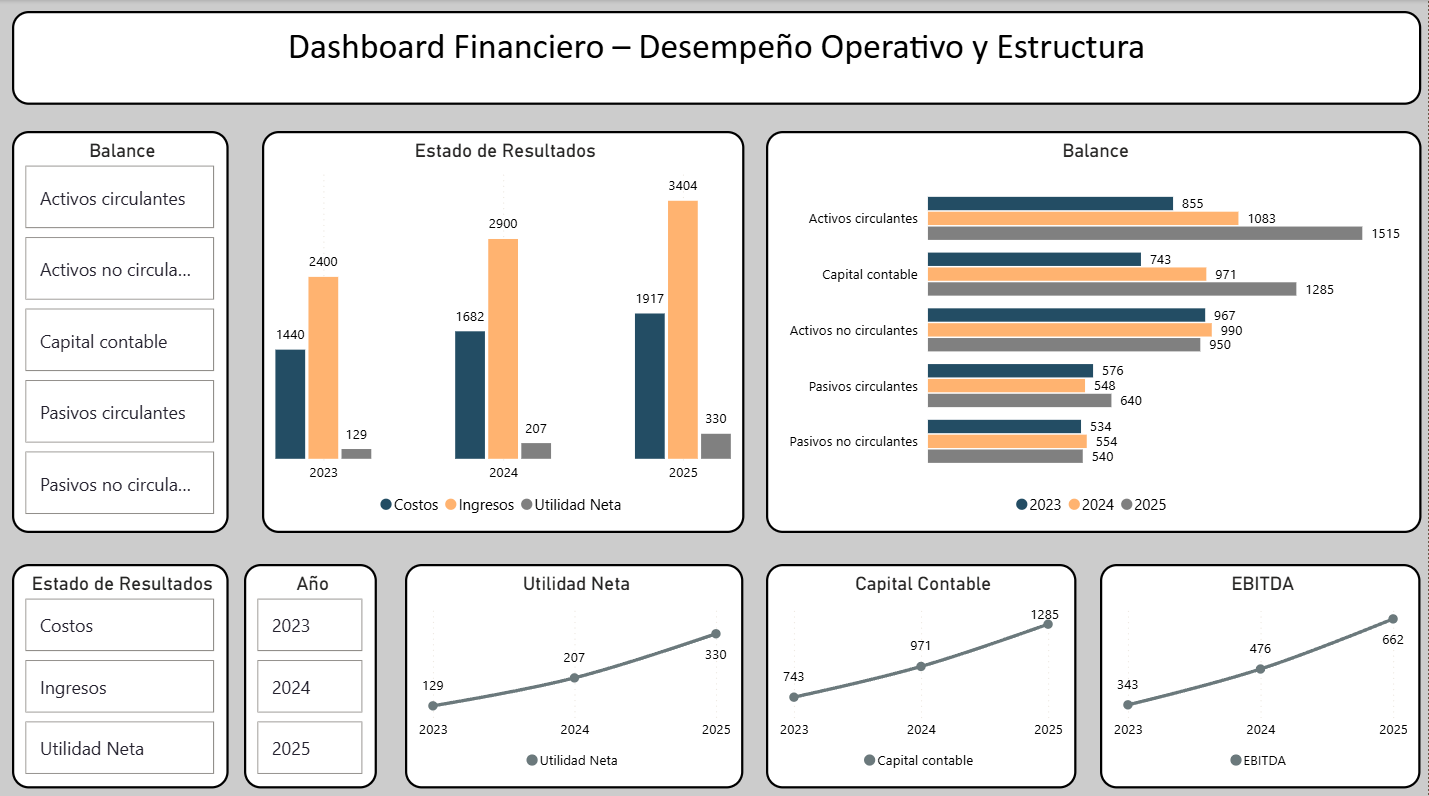

What the dashboard file says about the page in this screenshot:
{"tool":"powerbi","page":{"name":"dashboard estados","canvas":[1280,720],"ordinal":0},"visuals":[{"type":"clusteredColumnChart","title":"Estado de Resultados","fields":{"Category":["Estadoderesultado.Año"],"Y":["Sum(Estadoderesultado.Monto)"],"Series":["Estadoderesultado.Tipo"]},"box":[235.4,117.7,431.9,359.9],"z":0},{"type":"lineChart","title":"Utilidad Neta","fields":{"Category":["Estadoderesultado.Año"],"Y":["Sum(Estadoderesultado.Monto)"],"Series":["Estadoderesultado.Tipo"]},"box":[363.8,504.8,303.5,201.3],"z":1000},{"type":"textbox","box":[11.6,9.9,1261.8,84.2],"z":2000},{"type":"lineChart","title":"EBITDA","fields":{"Category":["EBITDA.Año"],"Y":["Sum(EBITDA.Monto)"],"Series":["EBITDA.Tipo"]},"box":[986,505.1,287.5,201.5],"z":3000},{"type":"lineChart","title":"Capital Contable","fields":{"Category":["Balance.Año"],"Y":["Sum(Balance.Monto)"],"Series":["Balance.Tipo"]},"box":[686.9,505.1,277.6,201.5],"z":4000},{"type":"clusteredBarChart","title":"Balance","fields":{"Y":["Sum(Balance.Monto)"],"Category":["Balance.Tipo"],"Series":["Balance.Año"]},"box":[686.7,117.7,586.5,359.9],"z":5000},{"type":"advancedSlicerVisual","fields":{"Values":["EBITDA.Año"]},"box":[219.8,504.8,118.7,201.3],"z":6000},{"type":"advancedSlicerVisual","fields":{"Values":["Balance.Tipo"]},"box":[11.7,117.7,193.6,359.9],"z":7000},{"type":"advancedSlicerVisual","title":"Estado de Resultados","fields":{"Values":["Estadoderesultado.Tipo"]},"box":[11.7,504.8,193.6,201.3],"z":8000}]}

Visuals, with their boxes in screenshot pixels (x1, y1, x2, y2), scaled from the page's 1280x720 canvas onto the 1429x796 screenshot:
"Estado de Resultados" clusteredColumnChart: (263, 130, 745, 528)
"Utilidad Neta" lineChart: (406, 558, 745, 781)
textbox: (13, 11, 1422, 104)
"EBITDA" lineChart: (1101, 558, 1422, 781)
"Capital Contable" lineChart: (767, 558, 1077, 781)
"Balance" clusteredBarChart: (767, 130, 1421, 528)
advancedSlicerVisual - EBITDA.Año: (245, 558, 378, 781)
advancedSlicerVisual - Balance.Tipo: (13, 130, 229, 528)
"Estado de Resultados" advancedSlicerVisual: (13, 558, 229, 781)
